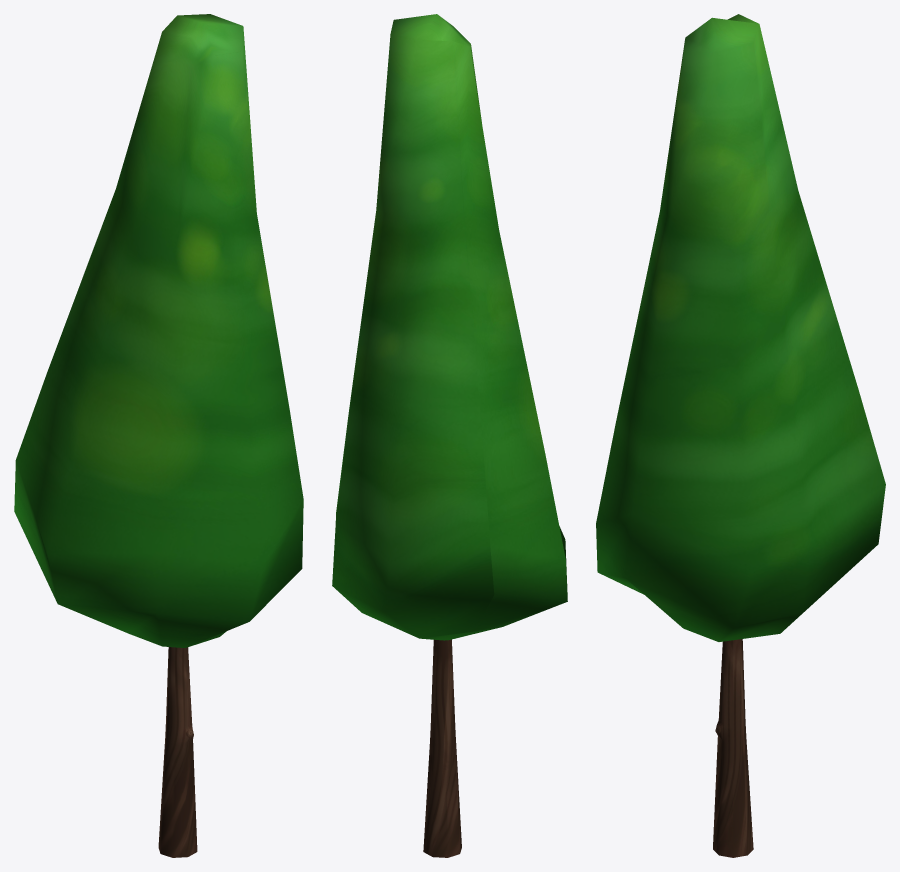
Rendered from baum3b.fbx.
3 renders of one model, left to right at view 1: azimuth 30°, elevation 25°; view 2: azimuth 150°, elevation 25°; view 3: azimuth 270°, elevation 25°, orthographic.
Visible parts, largest first — view 1: baum3b; view 2: baum3b; view 3: baum3b.
Boxes of the visible parts, x1,y1,x2,y2 form: baum3b: (14,14,303,857); baum3b: (332,14,567,857); baum3b: (596,14,885,857).
Bounding box in the file's own units: 0.5815 × 2.05 × 0.6411.
Materials: 1 (1 with a texture image).
